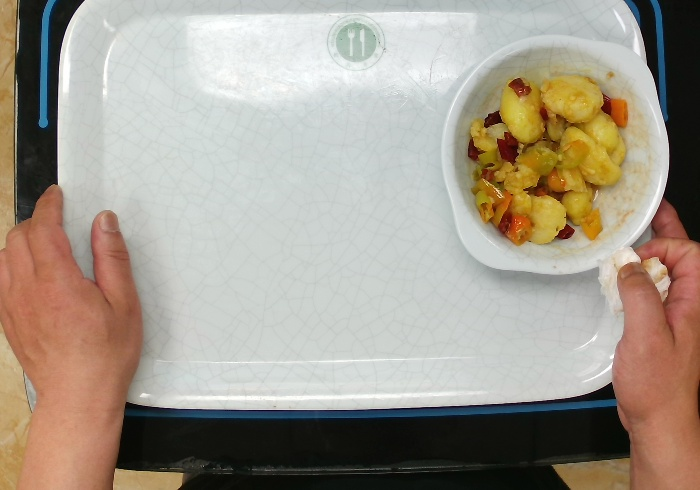JYsf-Shuang_Er_Wan: (437, 31, 677, 277)
